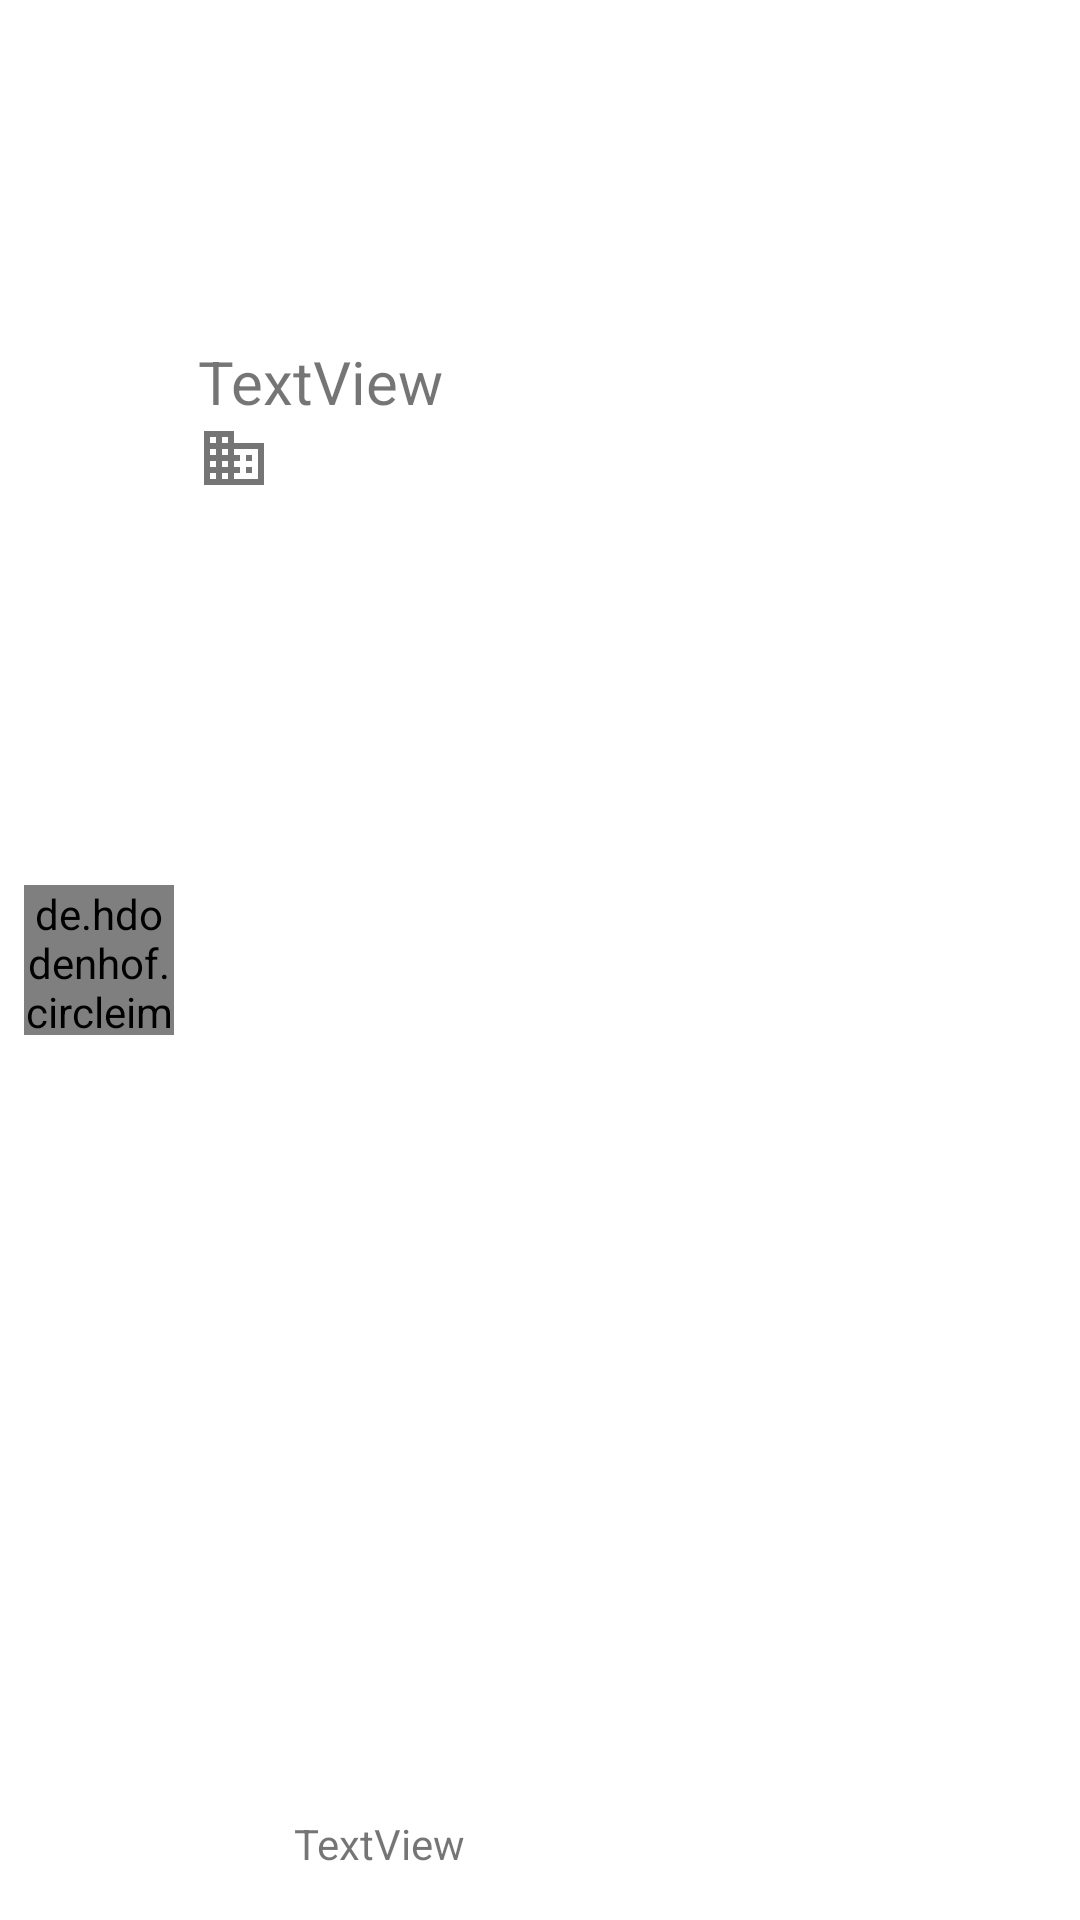

Icon click points for this 1080w x 1920h phone screenshot, format (x=x, y=y):
organization: (x=234, y=458)
